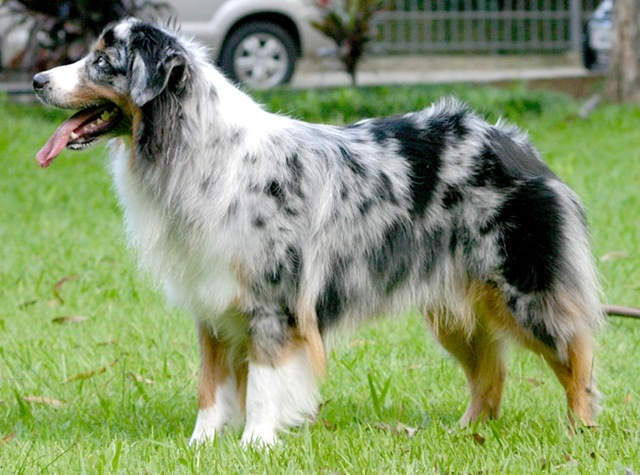dog: (28, 16, 612, 453)
